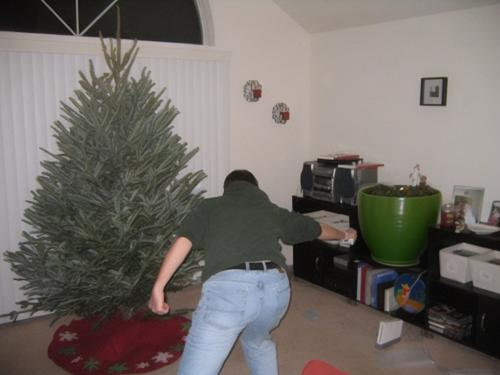person: (147, 167, 355, 375)
person/hand: (149, 289, 170, 316), (343, 228, 356, 241)
person/head: (223, 169, 259, 190)
pottedplant: (358, 185, 441, 268)
